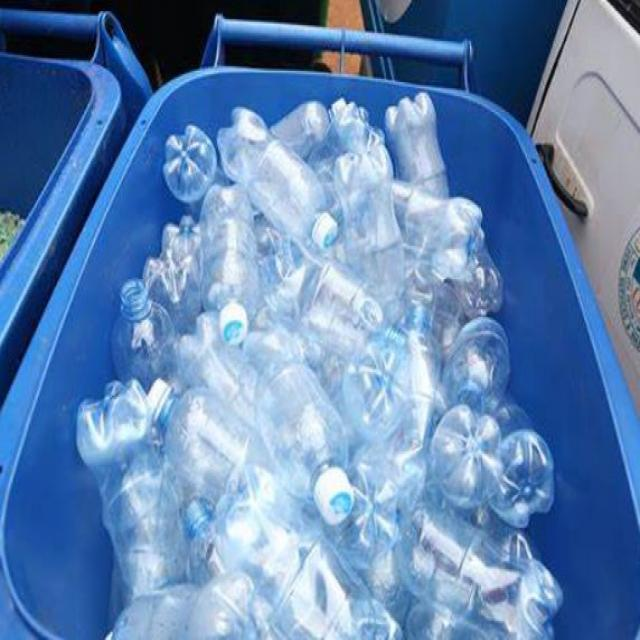dry: (55, 376, 211, 619), (254, 344, 370, 534), (198, 181, 264, 353), (383, 89, 464, 201), (611, 206, 640, 364)
